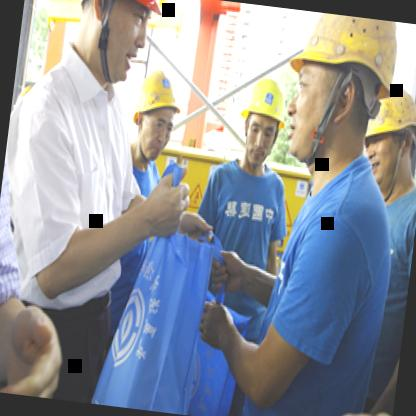helmet: (274, 9, 406, 171), (61, 0, 158, 90), (352, 67, 416, 200), (123, 54, 191, 165), (229, 70, 295, 172)
